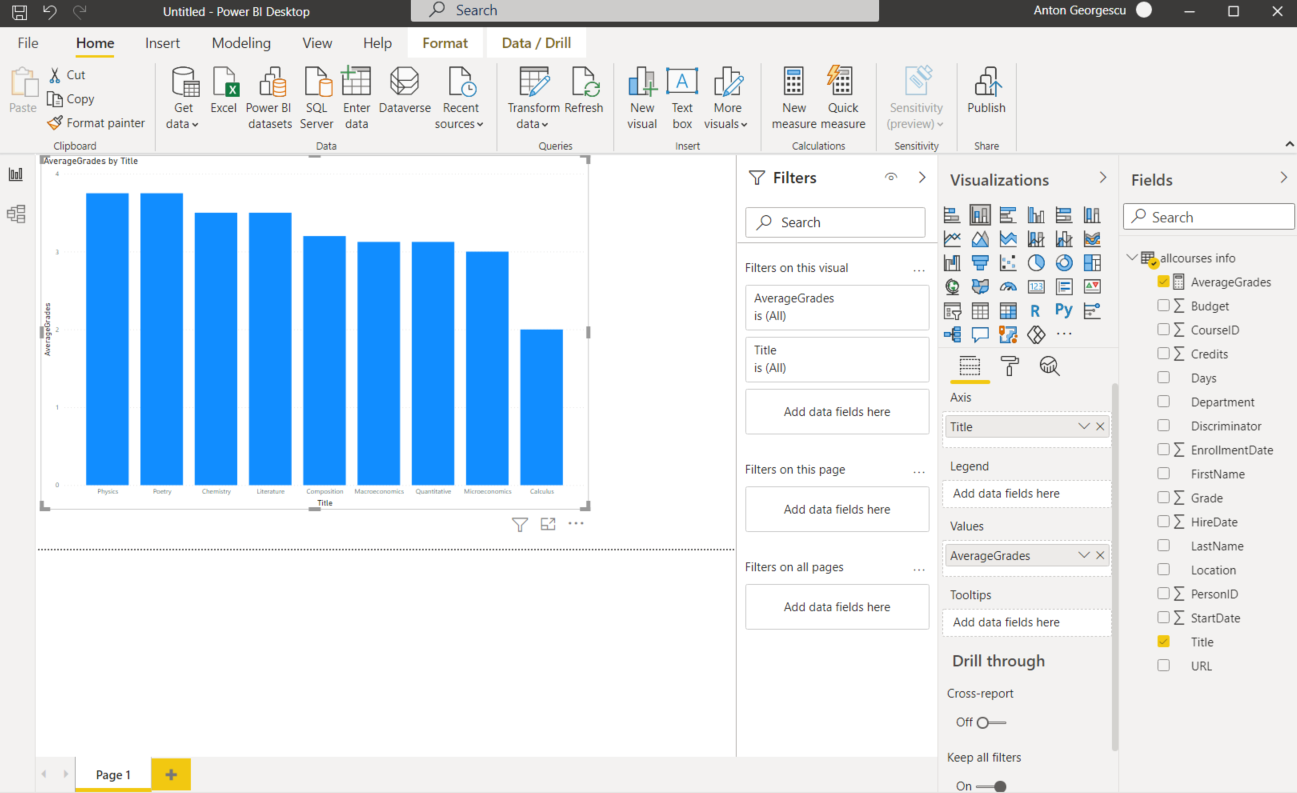

What the dashboard file says about the page in this screenshot:
{"tool":"powerbi","page":{"name":"Page 1","canvas":[1280,720],"ordinal":0},"visuals":[{"type":"columnChart","fields":{"Y":["allcourses info.Measure"],"Category":["allcourses info.Title"]},"box":[9.6,0,1001.2,648.2],"z":0}]}

Visuals, with their boxes on the page's 1280x720 design canvas (x1, y1, x2, y2). These are canvas units, not pixel positions in the 1297x793 screenshot, which may show the page scaled, cropped or inside an application window:
columnChart - allcourses info.Measure x allcourses info.Title: [10,0,1011,648]
